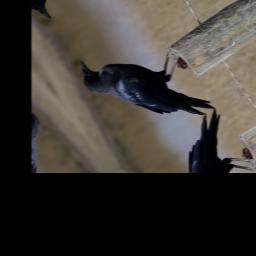Crow: (69, 15, 218, 159)
